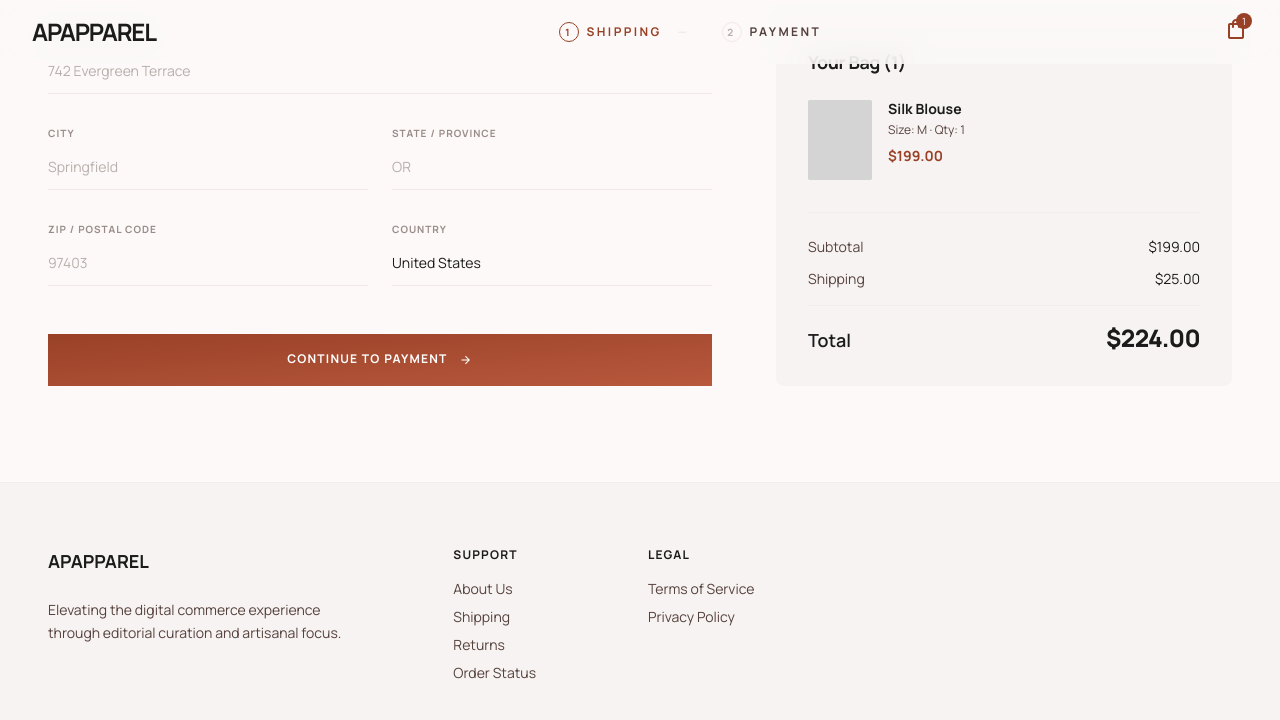
Test: CheckoutPage › shows validation error when continuing with empty fields
(page scrolled)
Click the button "Continue to Payment" at (380, 360), box [48,334,712,386]
(page scrolled)
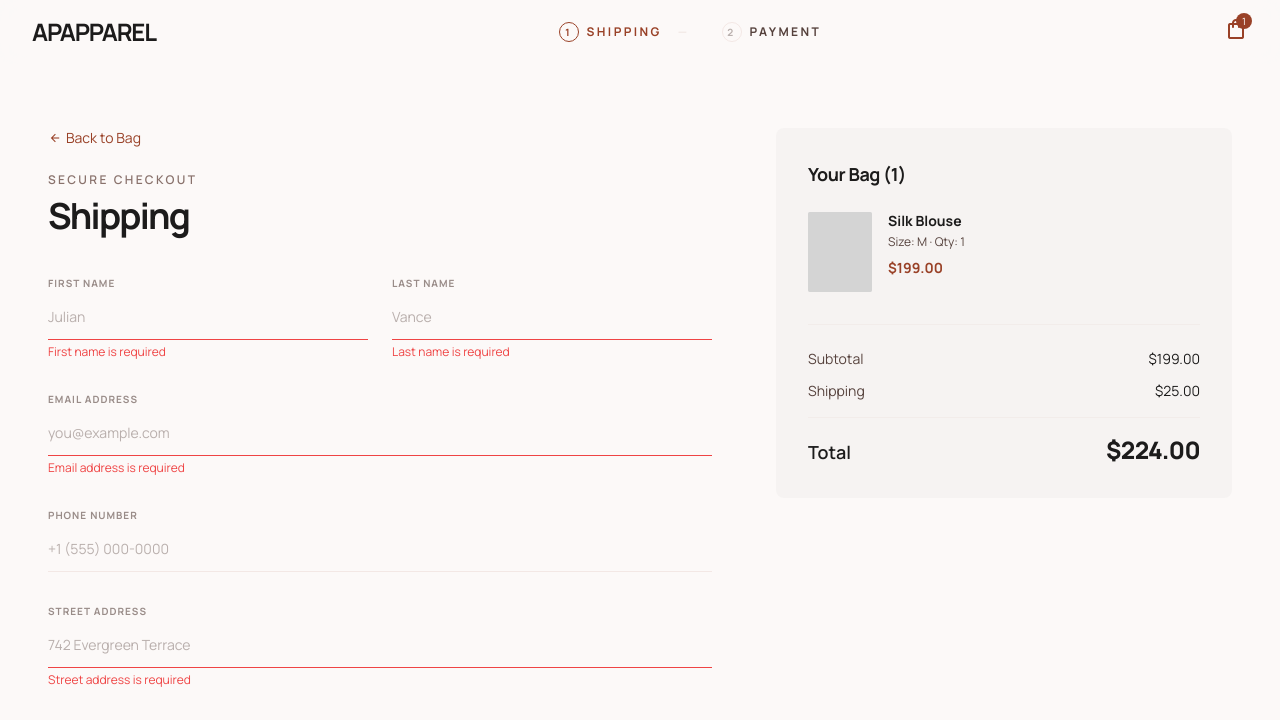
Expected: the text "First name is required" is shown, [48,343,166,360]
